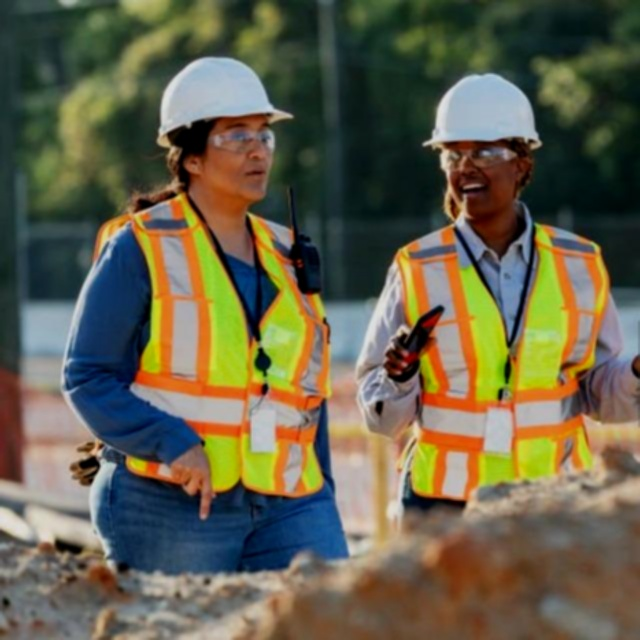Con_Casco: (158, 54, 294, 196), (423, 73, 542, 219)
Con_Chaleco: (82, 201, 337, 502), (392, 222, 603, 497)
